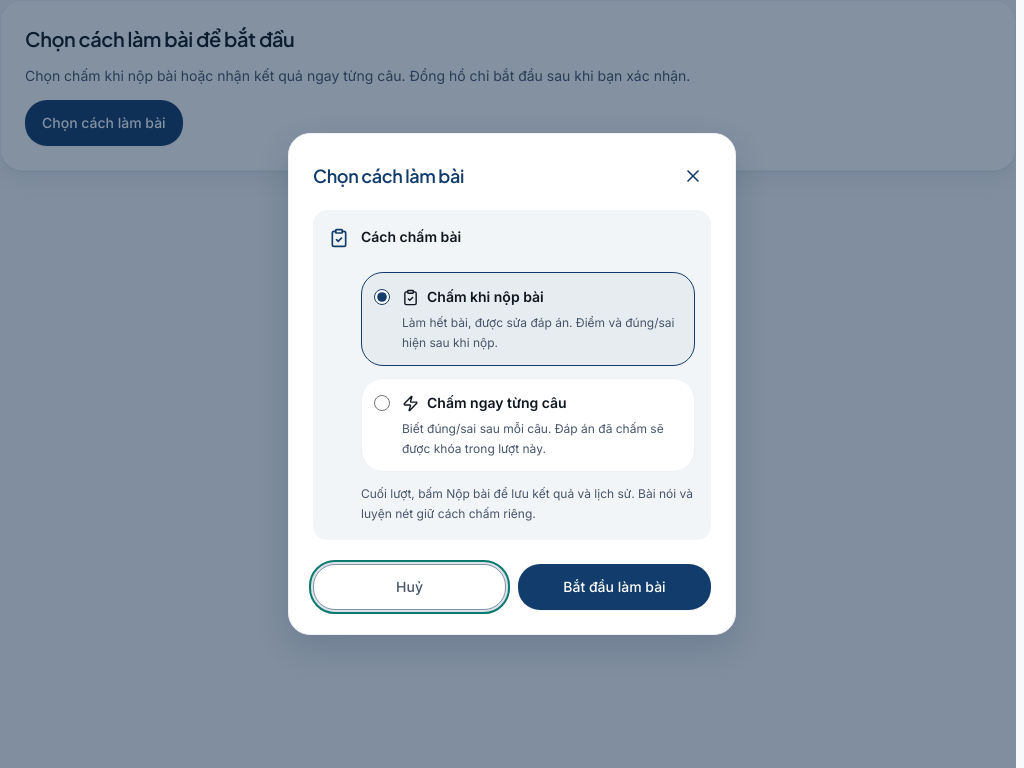
waits for mode confirmation before starting the timer on a direct exam link
The image size is (1024, 768).
Check: the text "Còn lại" is not shown
Click the button "Bắt đầu làm bài": (614, 587) [518, 564, 711, 610]
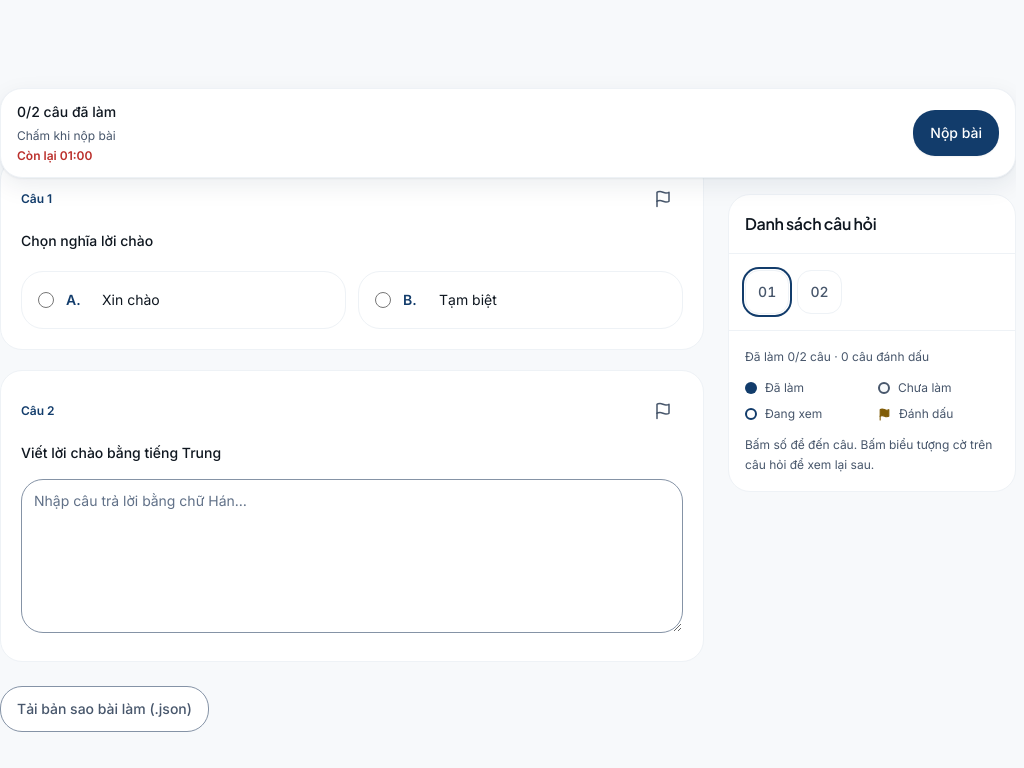
Check: the text "Còn lại 01:00" is shown, box [17, 148, 92, 163]
